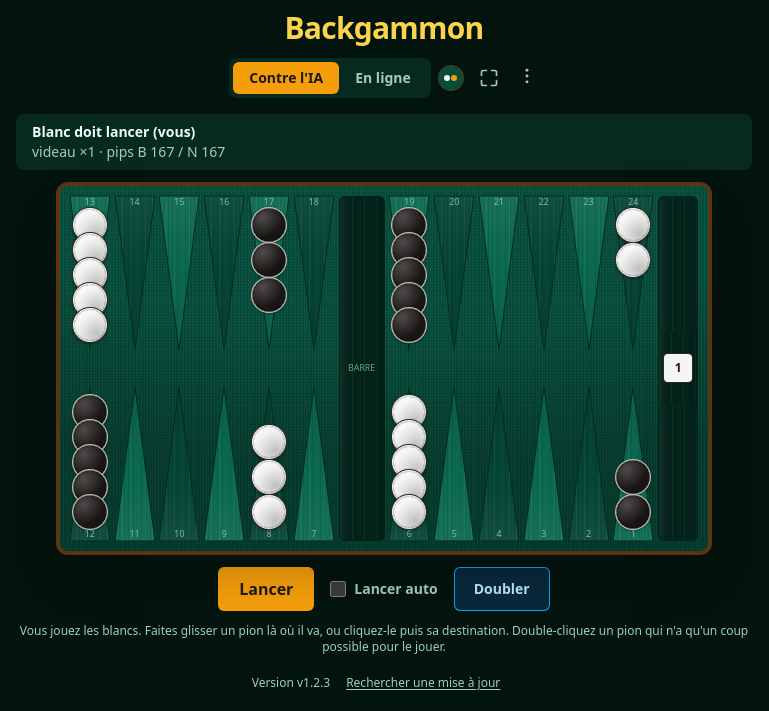
Scenario: App › confirms an up-to-date check from the footer
Note: The check fired on mount has to settle before the button is idle again.
Click the button "Rechercher une mise à jour".
click(423, 683)  # box [338, 671, 508, 695]
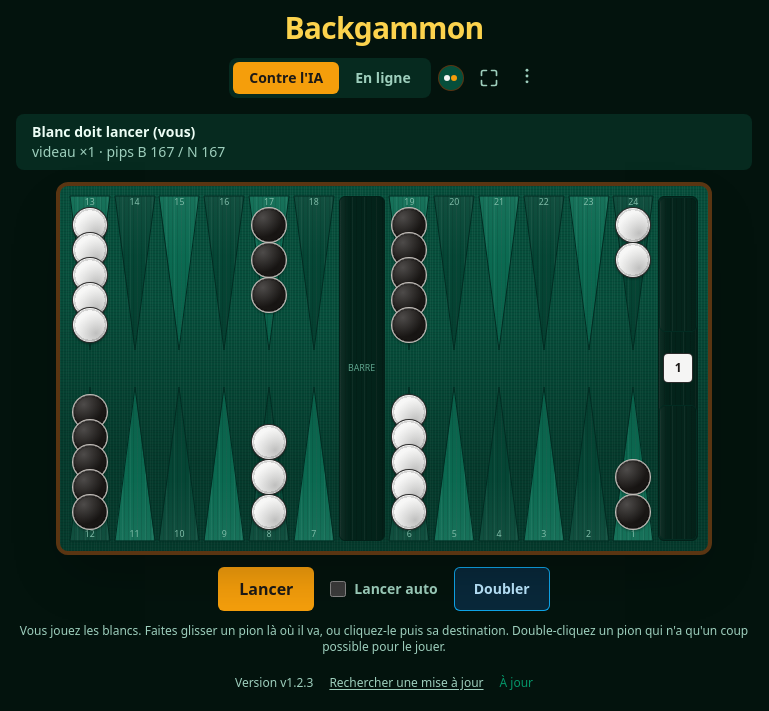
Now the text "À jour" is shown, box [500, 675, 533, 691]
